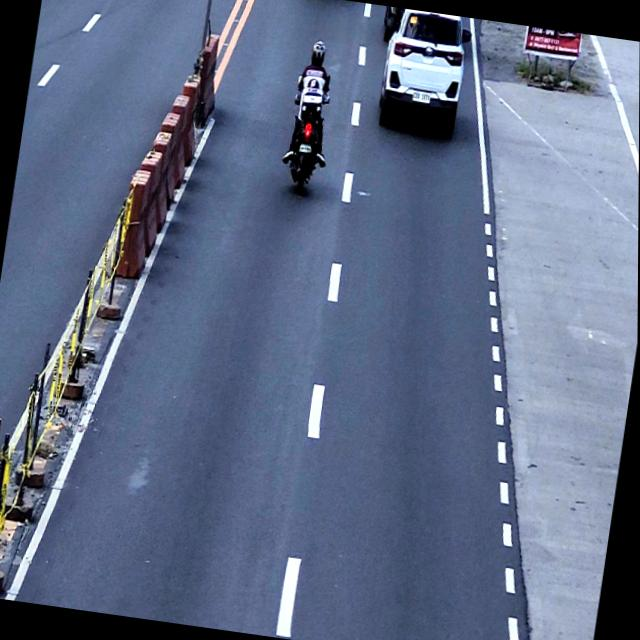Car: (375, 7, 473, 137)
License-Plate: (411, 88, 432, 105), (298, 143, 313, 154)
Motorcycle: (277, 71, 339, 198)
